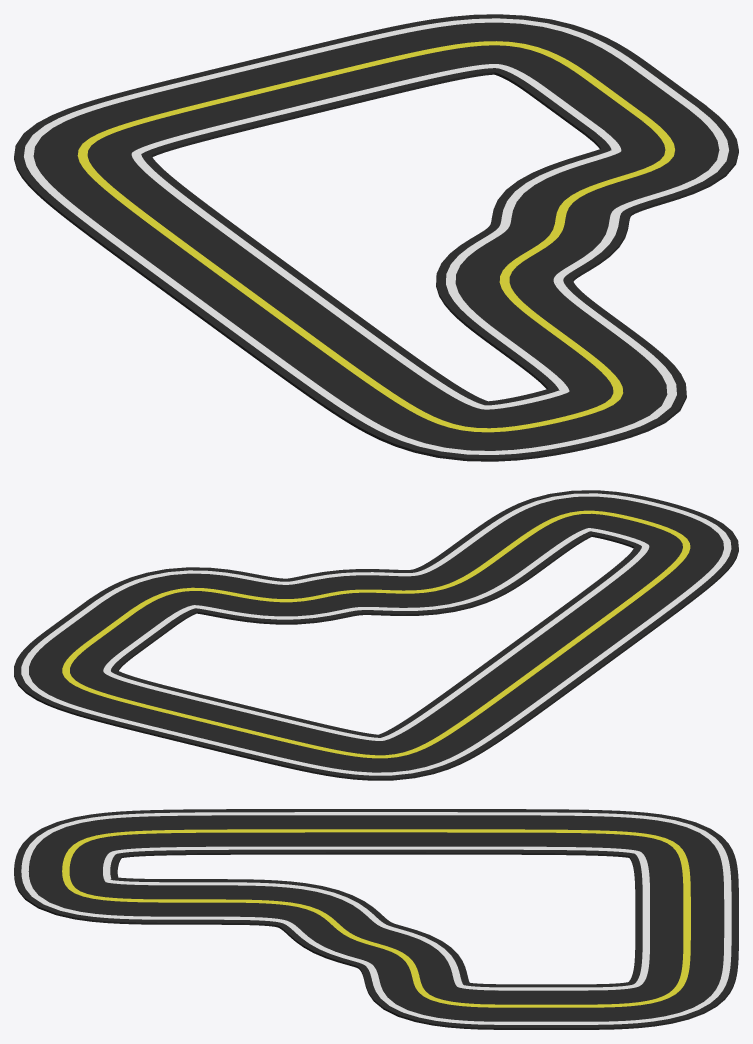
The model's file is raceTrack.glb.
3 views of the same model, one above another, from view 1: azimuth 30°, elevation 25°; view 2: azimuth 150°, elevation 25°; view 3: azimuth 270°, elevation 25° (orthographic). The views are drawn at different scales.
Visible parts, largest first — view 1: Cube; view 2: Cube; view 3: Cube.
Part boxes in pixels (<box>): Cube: <box>14,14,738,461</box>; Cube: <box>14,490,738,780</box>; Cube: <box>14,809,738,1029</box>.
Bounding box in the file's own units: 25.01 × 0.1 × 34.97.
